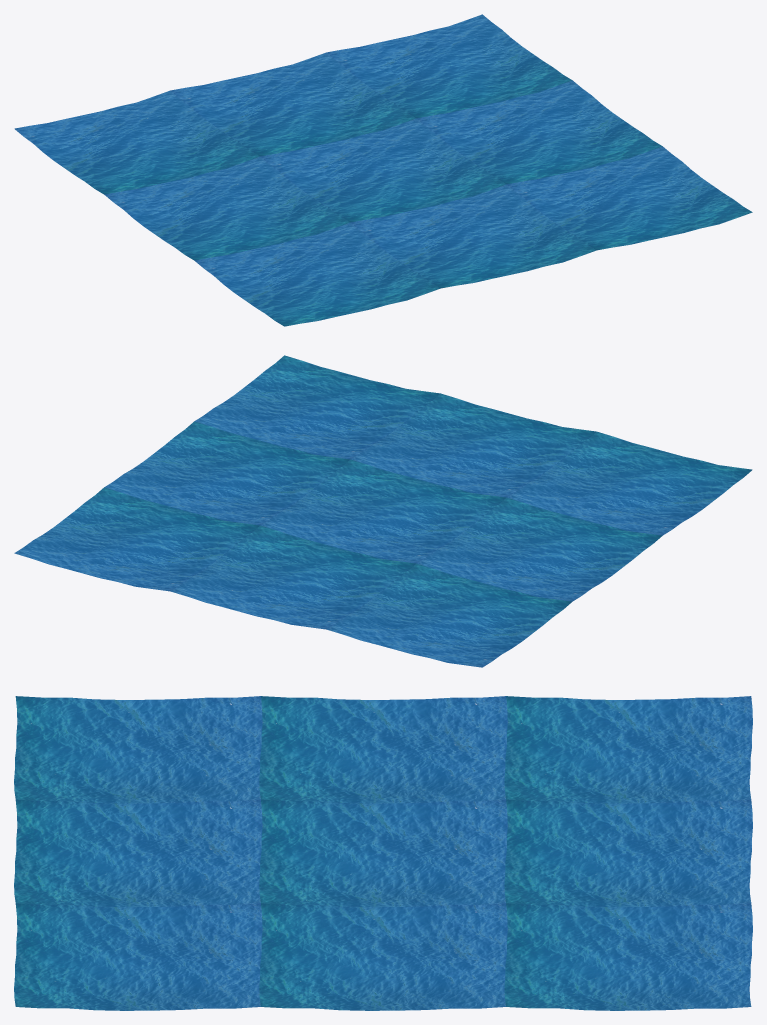
Rendered from ocean_000203.obj.
The picture shows the model from 3 angles, top to bottom: view 1: azimuth 30°, elevation 25°; view 2: azimuth 150°, elevation 25°; view 3: azimuth 270°, elevation 25°; orthographic projection. The views are drawn at different scales.
Parts seen in each view (by area): view 1: Ocean_Plan.001; view 2: Ocean_Plan.001; view 3: Ocean_Plan.001.
Boxes of the visible parts, x1,y1,x2,y2 form: Ocean_Plan.001: (14, 14, 752, 326); Ocean_Plan.001: (14, 355, 752, 667); Ocean_Plan.001: (14, 696, 752, 1010).
Size of the model in its own units: 109067 by 1595 by 109466.
1 material, 1 textured.
